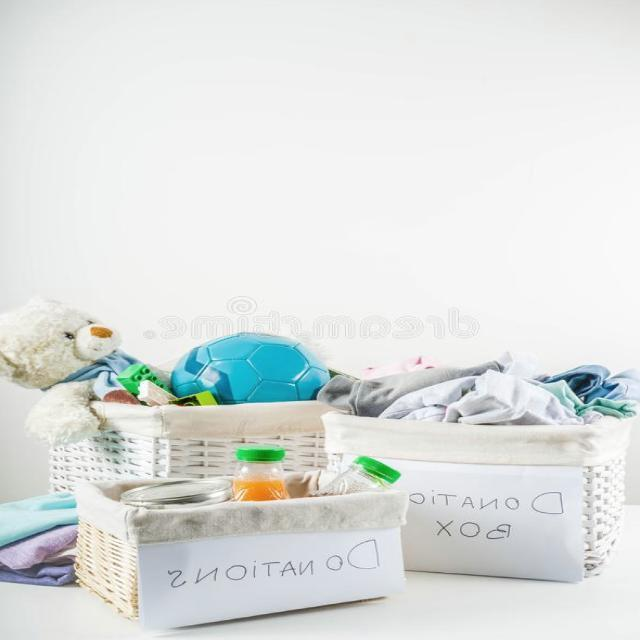clothes: (385, 362, 604, 424), (0, 494, 49, 600)
